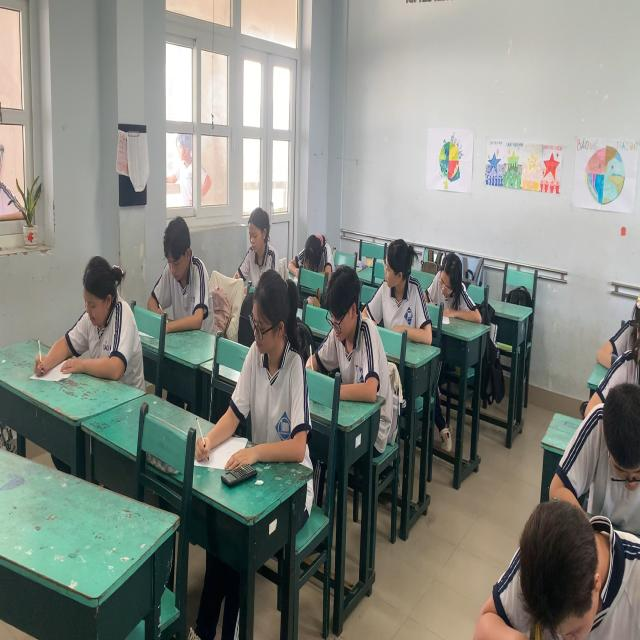cheating: (375, 233, 424, 337)
not_cheating: (234, 265, 313, 486), (74, 254, 138, 378), (323, 272, 381, 399), (154, 209, 206, 334), (289, 222, 338, 284), (230, 209, 286, 258), (432, 251, 471, 316)
